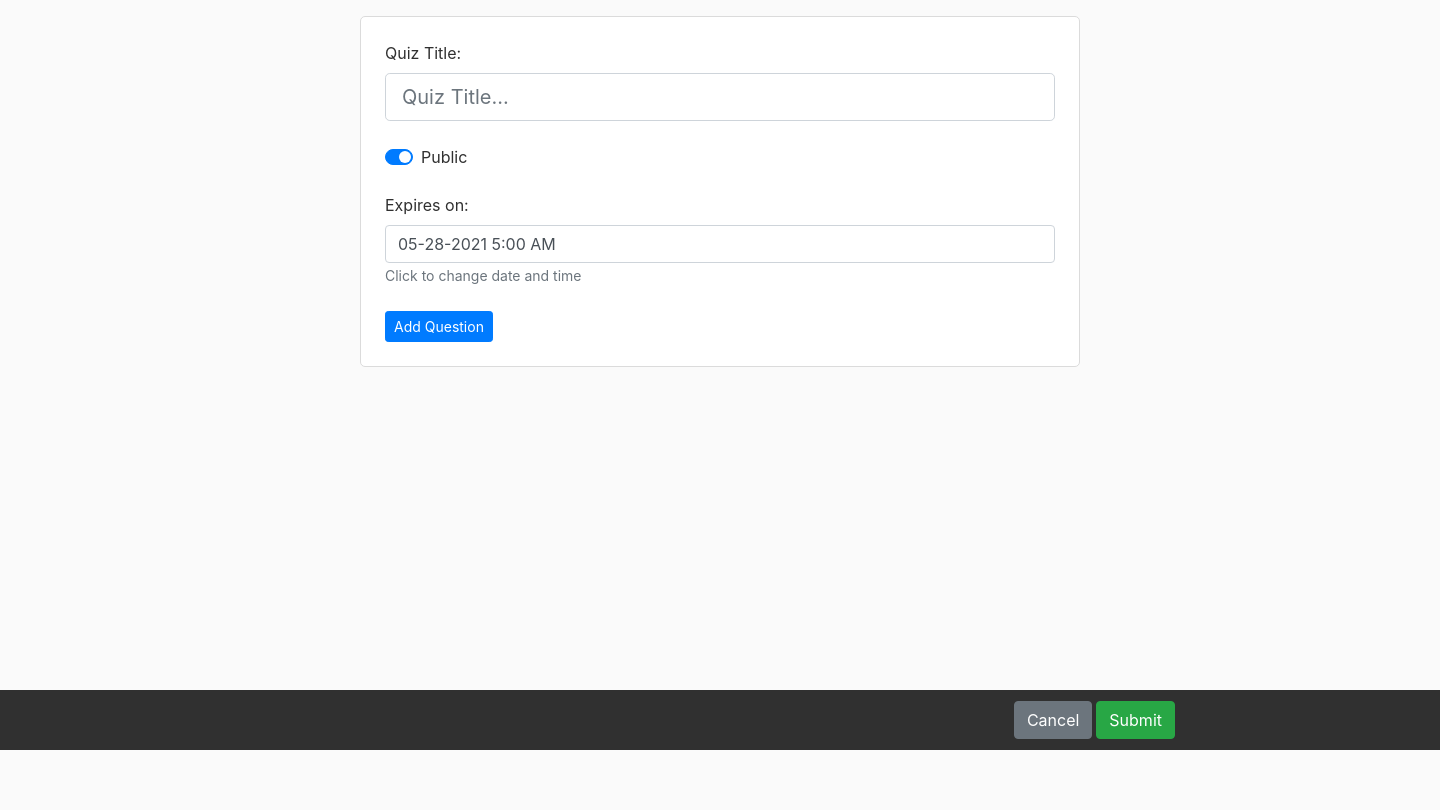
Test: QuizEditorForm › keeps the values of allowed users between toggling "Public"
Click the checkbox labelled "Public" at (444, 157), box [421,145,467,169]
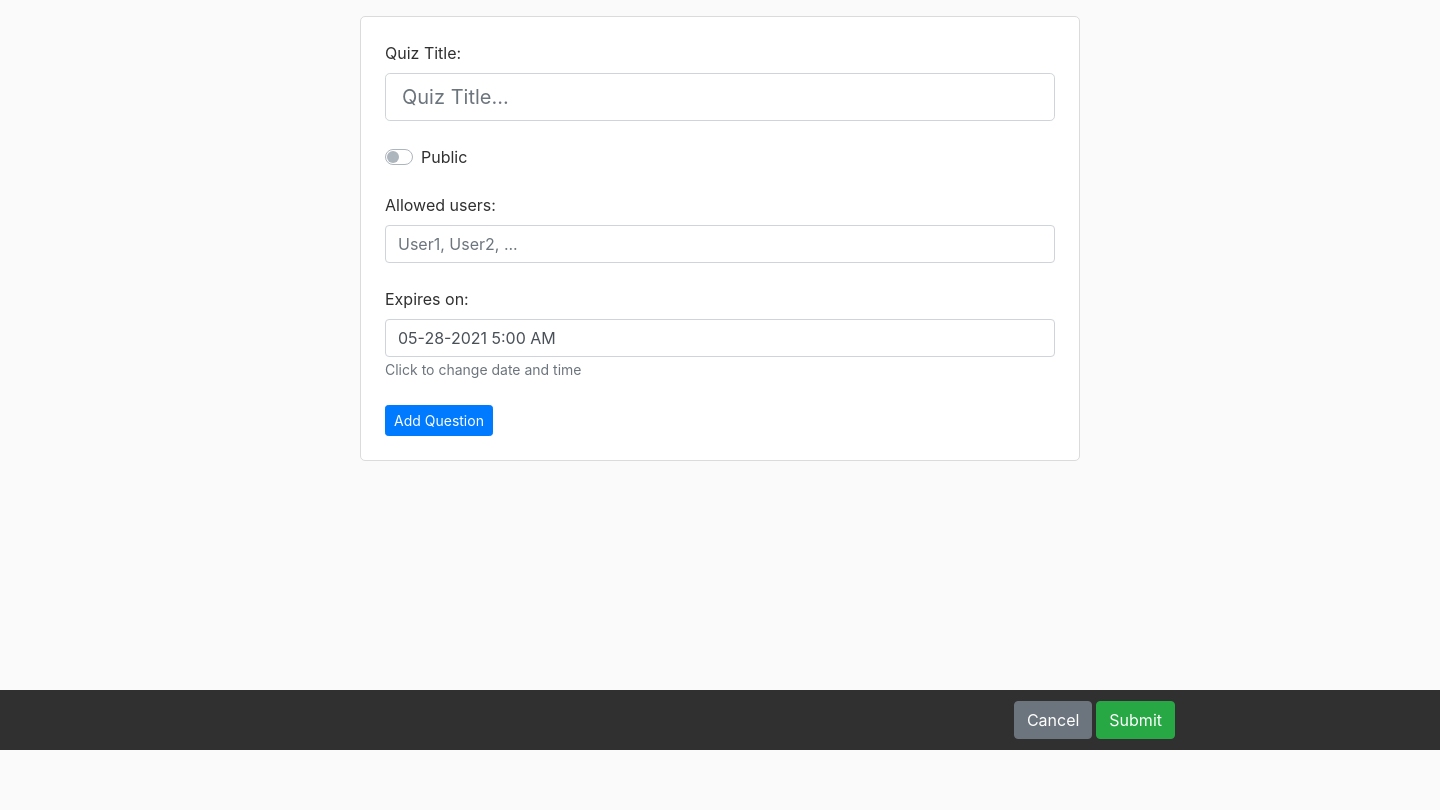
Type "username1,username2" into the field with placeholder "User1, User2, ..." at (720, 244), box [385,225,1055,263]
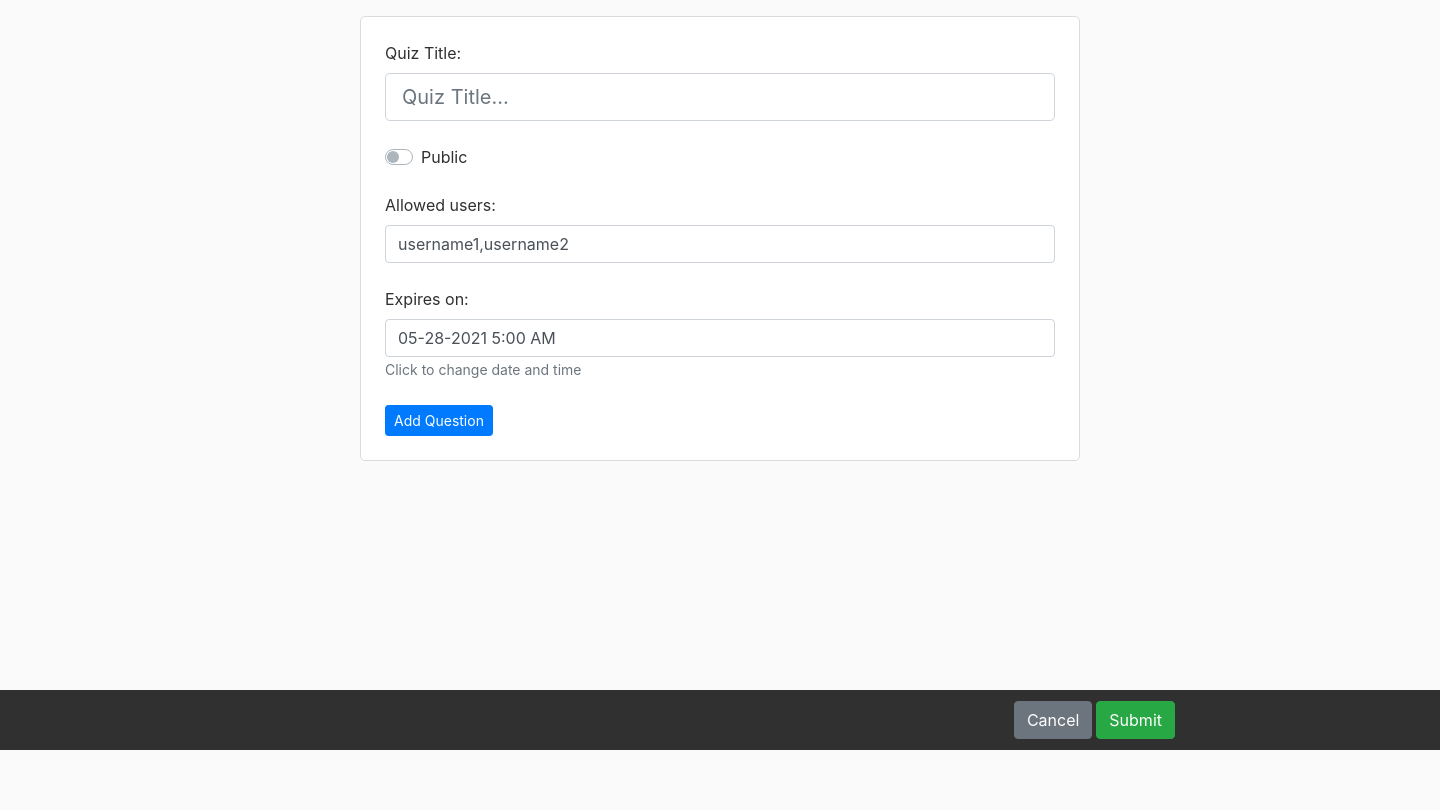
Click the checkbox labelled "Public" at (444, 157), box [421,145,467,169]
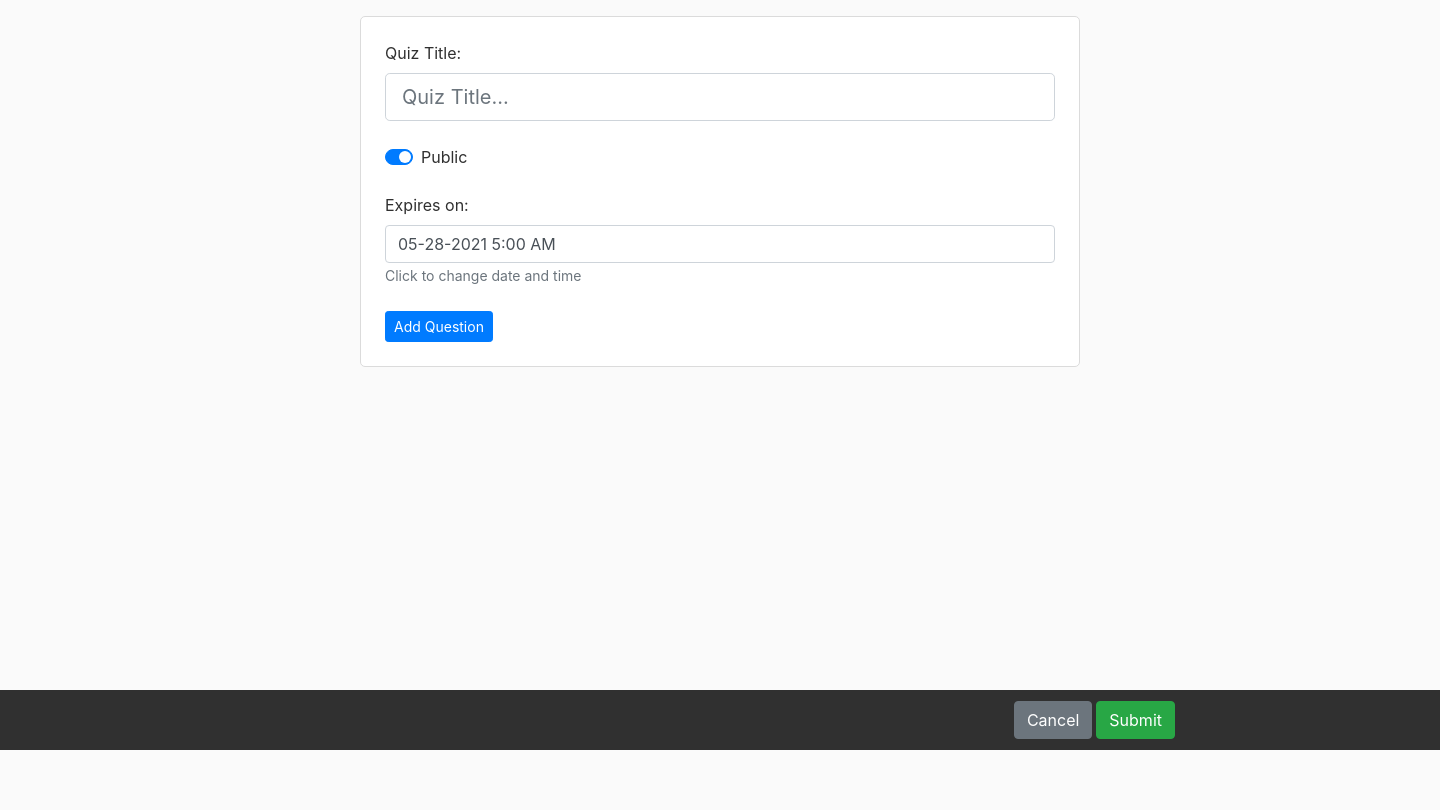
Click the checkbox labelled "Public" at (444, 157), box [421,145,467,169]
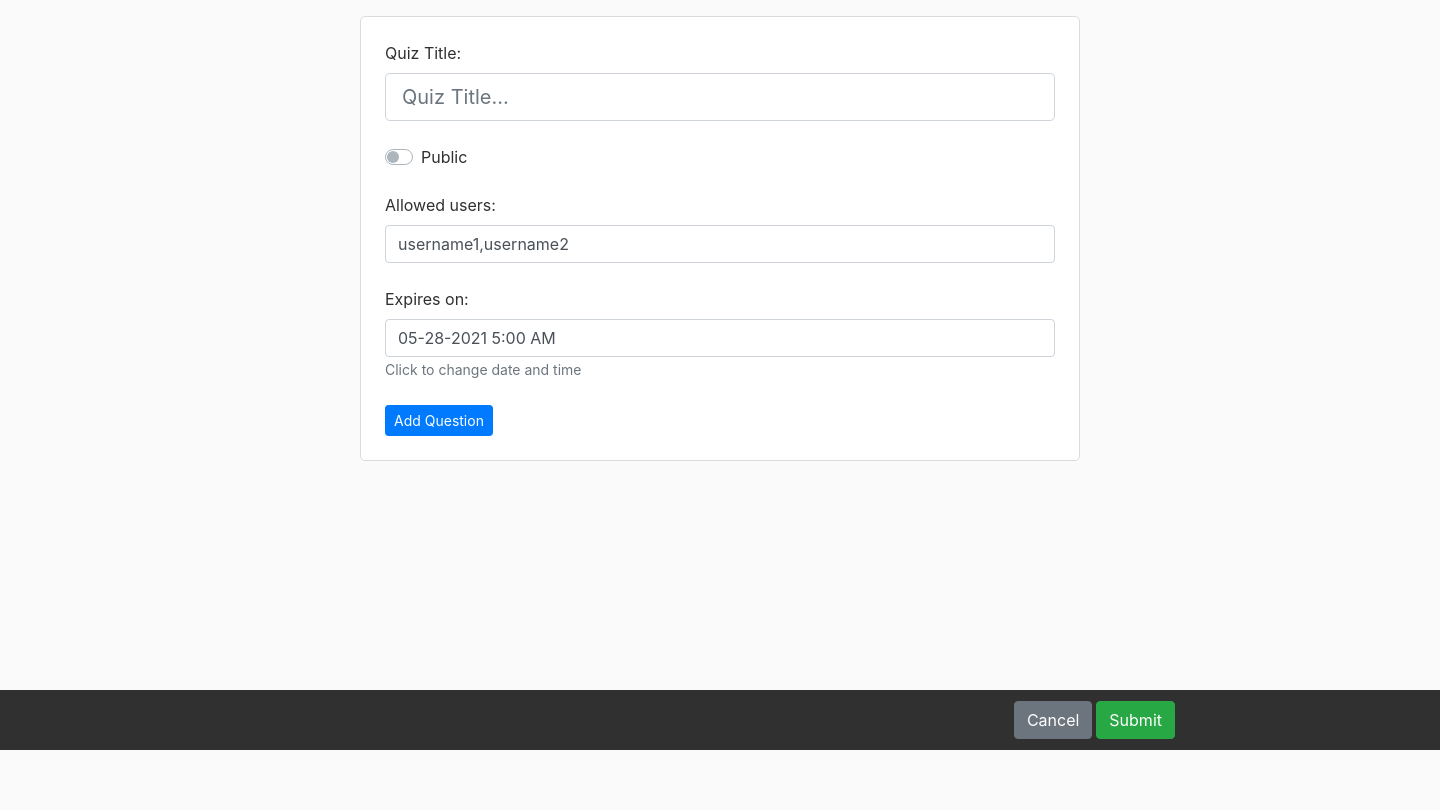
Now the field showing "username1,username2" is shown, box [385,225,1055,263]
